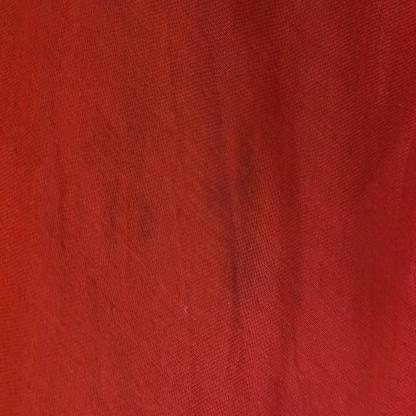spot: (195, 157, 268, 312), (225, 25, 268, 222), (138, 193, 162, 259)
